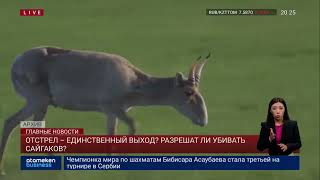saiga: (2, 48, 211, 142)
